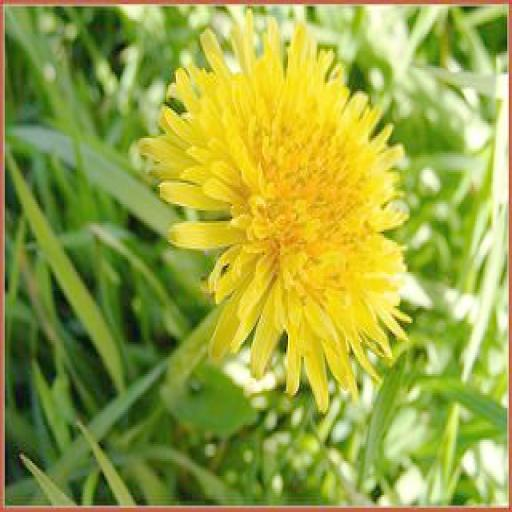dandelion: (152, 23, 410, 406)
